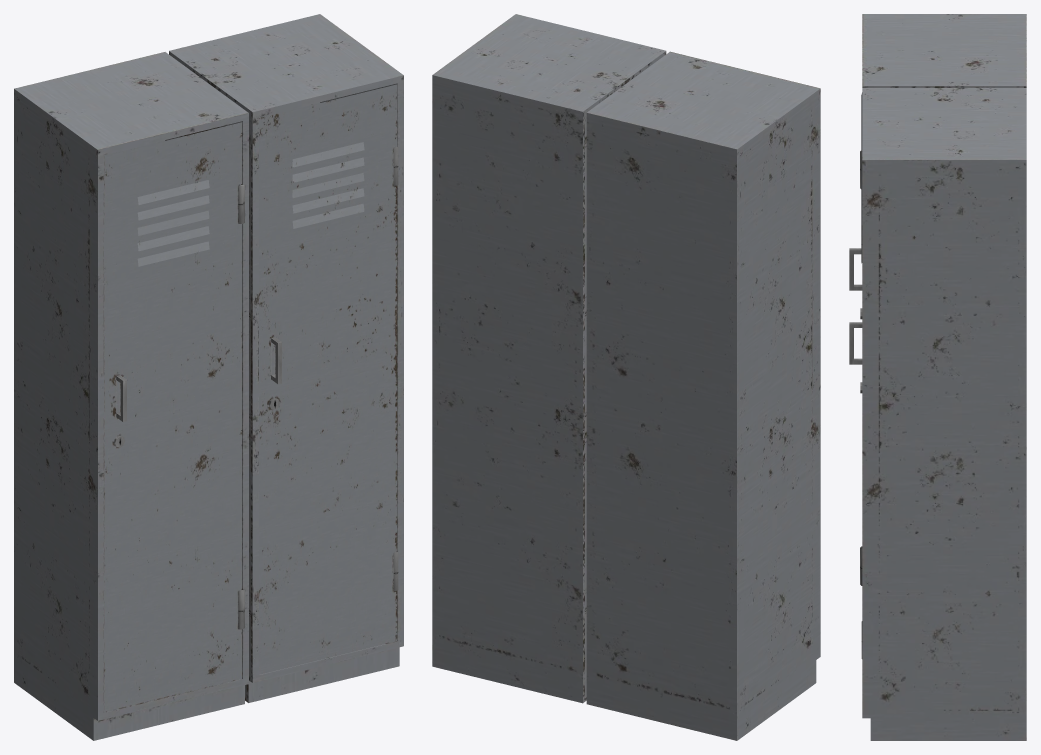
File: steel_locker.glb
3 renders of one model, left to right at view 1: azimuth 30°, elevation 25°; view 2: azimuth 150°, elevation 25°; view 3: azimuth 270°, elevation 25°, orthographic. The views are drawn at different scales.
Parts seen in each view (by area): view 1: steel_locker_0, steel_locker_door_r, steel_locker_door_l; view 2: steel_locker_0; view 3: steel_locker_0, steel_locker_door_r, steel_locker_door_l.
Boxes of the visible parts, left/top/right/bottom form: steel_locker_0: left=14, top=14, right=403, bottom=740; steel_locker_door_r: left=259, top=84, right=397, bottom=674; steel_locker_door_l: left=104, top=122, right=242, bottom=712; steel_locker_0: left=432, top=14, right=820, bottom=740; steel_locker_0: left=860, top=14, right=1026, bottom=740; steel_locker_door_r: left=849, top=166, right=862, bottom=393; steel_locker_door_l: left=849, top=92, right=862, bottom=319.
Bounding box in the file's own units: 1.08 × 2 × 0.5524.
Materials: 3 (3 with a texture image).
